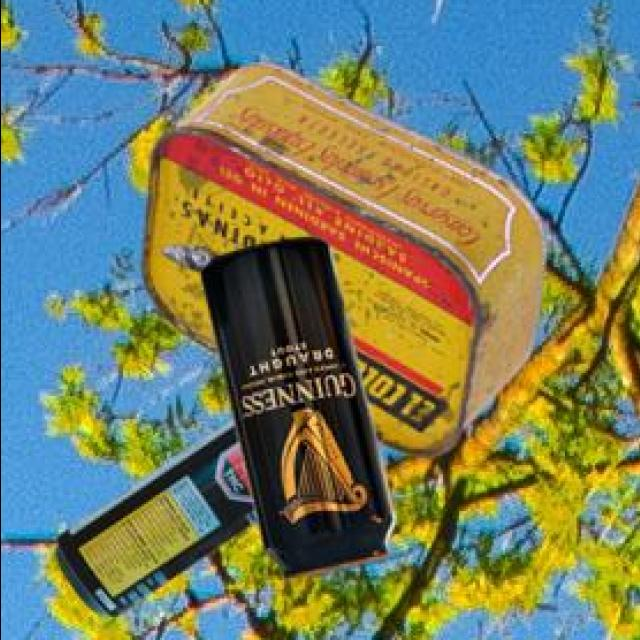logam: (137, 66, 542, 459), (197, 241, 390, 581), (52, 422, 252, 620)
